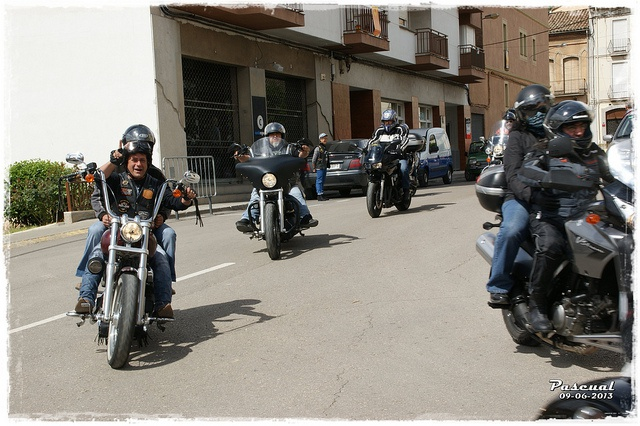non-vehicle: (474, 164, 626, 363), (63, 151, 194, 365), (228, 137, 314, 259), (355, 129, 427, 218), (479, 119, 511, 173)
